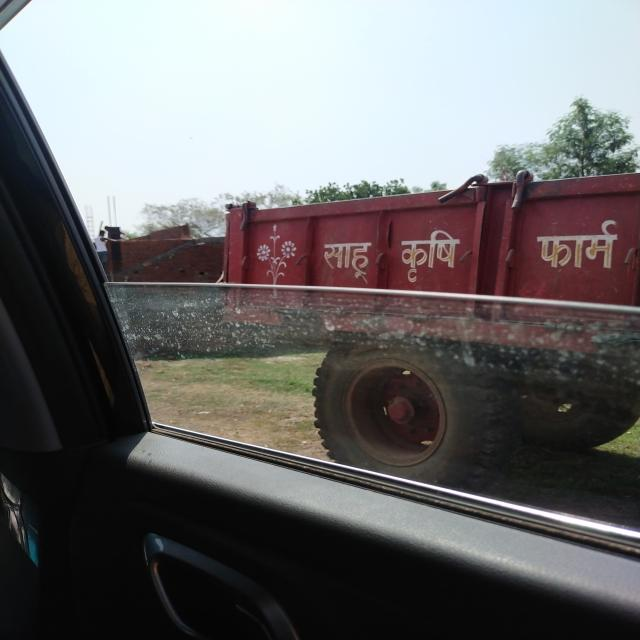Car: (2, 71, 546, 640)
Truck: (214, 163, 640, 479)
